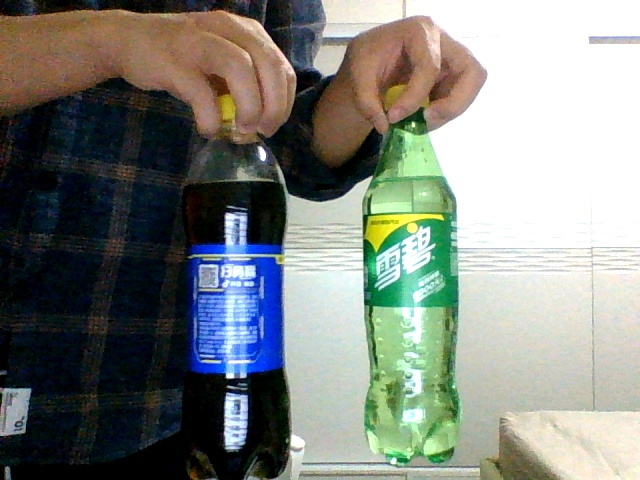Cola: (183, 92, 292, 476)
Sprite: (360, 84, 463, 466)
